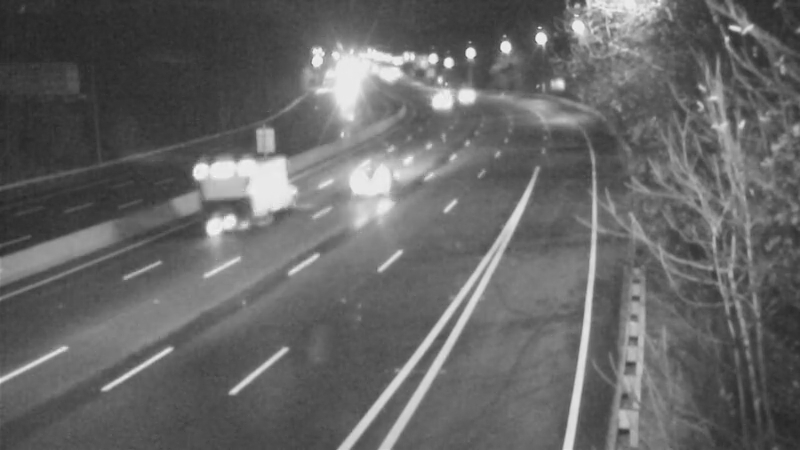vehicle: (334, 138, 414, 218), (198, 154, 278, 234), (437, 65, 487, 115), (417, 72, 467, 122)
